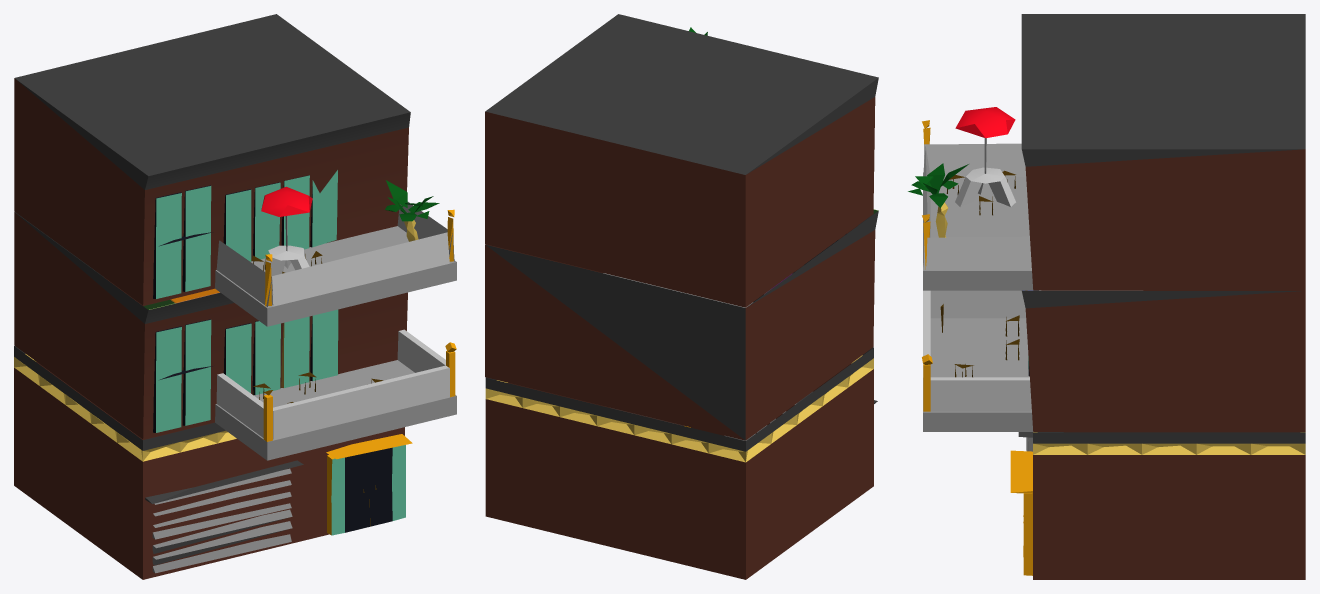
Rendered from PredioCentroMarromLOD2.fbx.
The picture shows the model from 3 angles, left to right: view 1: azimuth 30°, elevation 25°; view 2: azimuth 150°, elevation 25°; view 3: azimuth 270°, elevation 25°; orthographic projection. The views are drawn at different scales.
Parts seen in each view (by area): view 1: PredioFundacaoLOD2.001, Andar2LOD2.001, Andar1LOD2.001, GaragemLOD2.001; view 2: PredioFundacaoLOD2.001; view 3: PredioFundacaoLOD2.001, Andar2LOD2.001, Andar1LOD2.001.
Part boxes in pixels (box(x1,y1,x2,y2)): PredioFundacaoLOD2.001: box(14, 14, 412, 579); Andar2LOD2.001: box(215, 180, 456, 326); Andar1LOD2.001: box(215, 329, 456, 460); GaragemLOD2.001: box(145, 460, 303, 573); PredioFundacaoLOD2.001: box(485, 14, 878, 579); PredioFundacaoLOD2.001: box(940, 14, 1305, 579); Andar2LOD2.001: box(908, 107, 1142, 290); Andar1LOD2.001: box(922, 290, 1040, 431).
Size of the model in its own units: 782 by 1161 by 970.
Materials: 1 (1 with a texture image).
